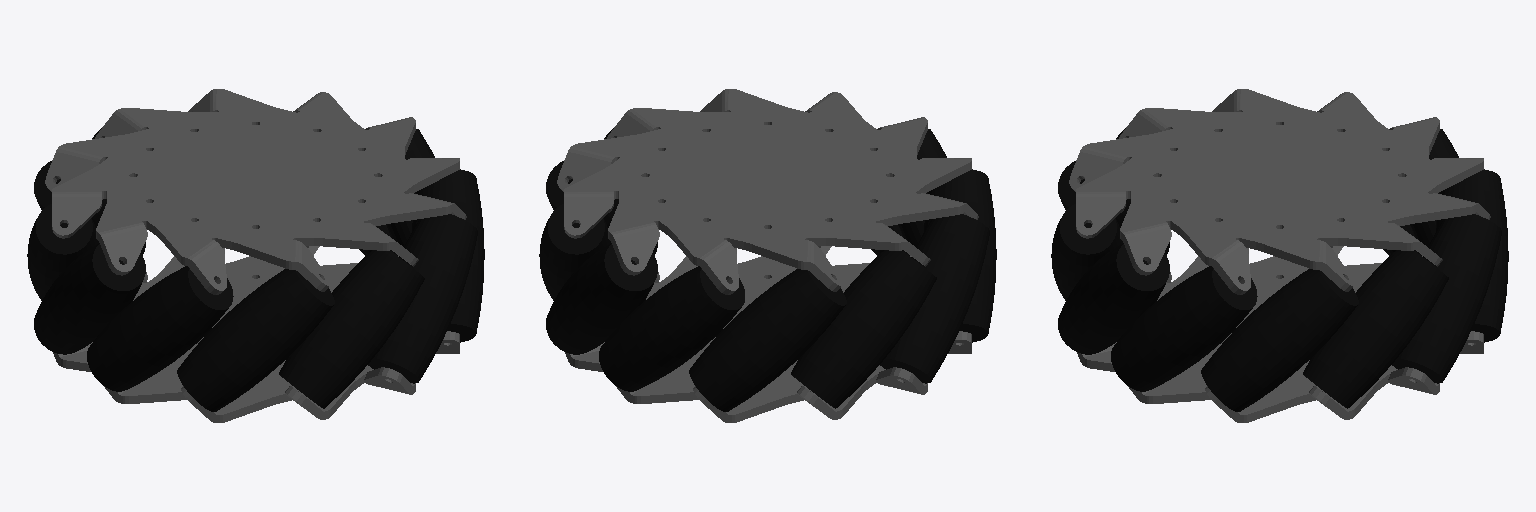
The model's file is omni_wheel_1.obj.
3 renders of one model, left to right at view 1: azimuth 30°, elevation 25°; view 2: azimuth 150°, elevation 25°; view 3: azimuth 270°, elevation 25°, orthographic.
Visible parts, largest first — view 1: mecawheelA__llantas__1_-mesh, mecawheelA__rollers_-mesh; view 2: mecawheelA__llantas__1_-mesh, mecawheelA__rollers_-mesh; view 3: mecawheelA__llantas__1_-mesh, mecawheelA__rollers_-mesh.
Boxes of the visible parts, x1,y1,x2,y2 form: mecawheelA__llantas__1_-mesh: [45, 89, 466, 422]; mecawheelA__rollers_-mesh: [27, 128, 484, 411]; mecawheelA__llantas__1_-mesh: [557, 89, 978, 422]; mecawheelA__rollers_-mesh: [539, 128, 996, 411]; mecawheelA__llantas__1_-mesh: [1069, 89, 1490, 422]; mecawheelA__rollers_-mesh: [1051, 128, 1508, 411].
Bounding box in the file's own units: 0.254 × 0.099 × 0.254.